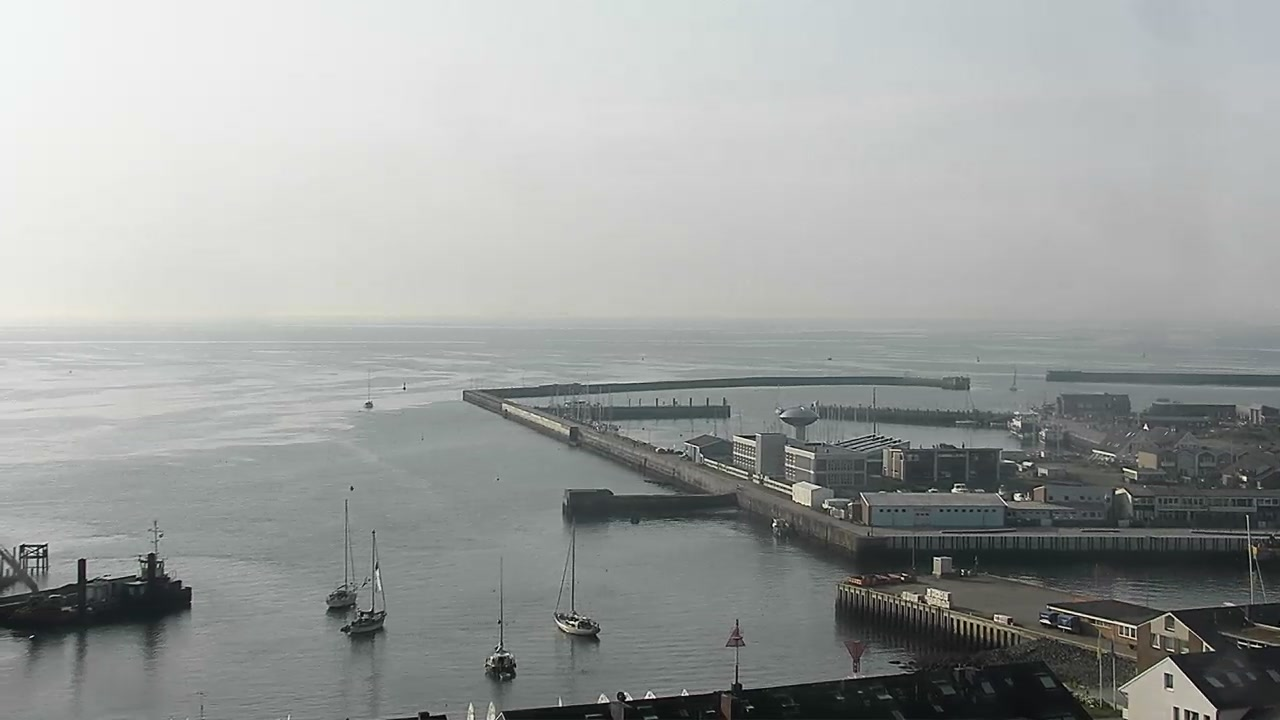sea: (8, 516, 193, 627), (551, 514, 601, 635), (1224, 511, 1280, 606), (338, 529, 388, 635), (482, 554, 517, 679), (324, 498, 358, 607), (1006, 410, 1039, 440), (1036, 421, 1065, 448), (363, 368, 374, 408), (770, 514, 790, 534), (1009, 367, 1020, 392)
